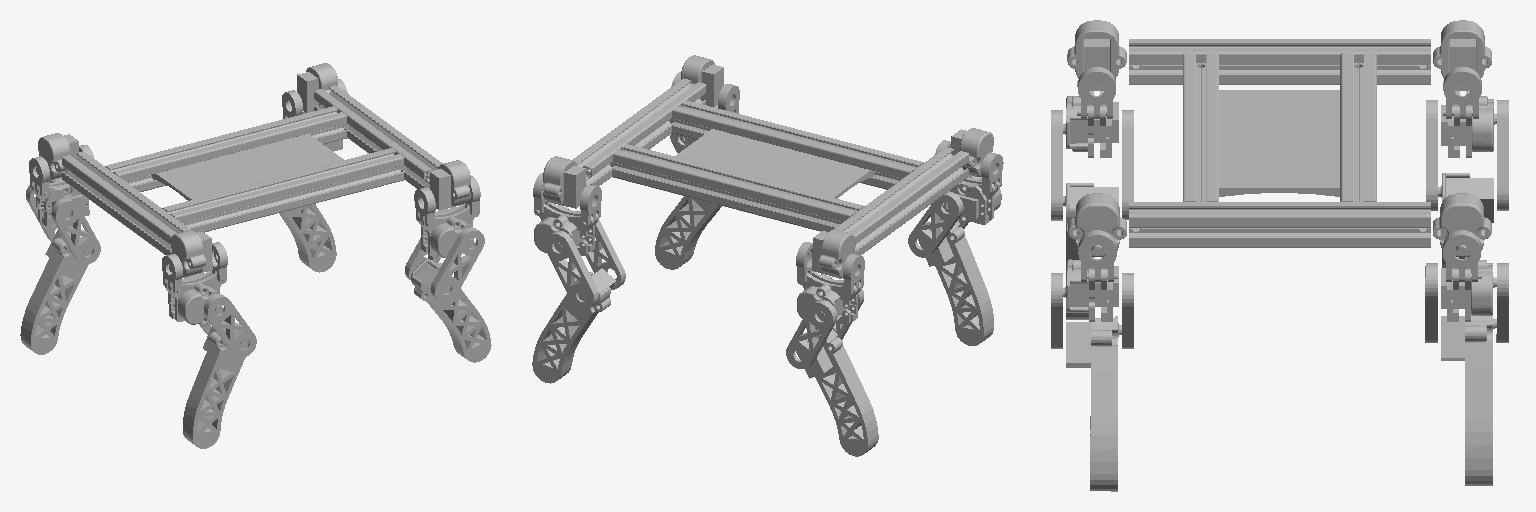
URDF robot description (FullBotTest2URDF.SLDASM):
<?xml version="1.0" encoding="utf-8"?>
<!-- This URDF was automatically created by SolidWorks to URDF Exporter! Originally created by Stephen Brawner (brawner@gmail.com) 
     Commit Version: 1.6.0-4-g7f85cfe  Build Version: 1.6.7995.38578
     For more information, please see http://wiki.ros.org/sw_urdf_exporter -->
<robot
  name="FullBotTest2URDF.SLDASM">
  <link
    name="BaseLink">
    <inertial>
      <origin
        xyz="6.5192E-05 -3.7379E-06 -0.0039004"
        rpy="0 0 0" />
      <mass
        value="1.1478" />
      <inertia
        ixx="0.0025969"
        ixy="7.6802E-12"
        ixz="-7.2398E-05"
        iyy="0.0045"
        iyz="4.4606E-12"
        izz="0.0069271" />
    </inertial>
    <visual>
      <origin
        xyz="0 0 0"
        rpy="0 0 0" />
      <geometry>
        <mesh
          filename="package://FullBotTest2URDF.SLDASM/meshes/BaseLink.STL" />
      </geometry>
      <material
        name="">
        <color
          rgba="0.75294 0.75294 0.75294 1" />
      </material>
    </visual>
    <collision>
      <origin
        xyz="0 0 0"
        rpy="0 0 0" />
      <geometry>
        <mesh
          filename="package://FullBotTest2URDF.SLDASM/meshes/BaseLink.STL" />
      </geometry>
    </collision>
  </link>
  <link
    name="FLUpperHipLink">
    <inertial>
      <origin
        xyz="0.0031695 2.5708E-05 0.0080334"
        rpy="0 0 0" />
      <mass
        value="0.080676" />
      <inertia
        ixx="1.9012E-05"
        ixy="1.3316E-11"
        ixz="3.9057E-07"
        iyy="1.7088E-05"
        iyz="-7.8407E-10"
        izz="1.2575E-05" />
    </inertial>
    <visual>
      <origin
        xyz="0 0 0"
        rpy="0 0 0" />
      <geometry>
        <mesh
          filename="package://FullBotTest2URDF.SLDASM/meshes/FLUpperHipLink.STL" />
      </geometry>
      <material
        name="">
        <color
          rgba="0.75294 0.75294 0.75294 1" />
      </material>
    </visual>
    <collision>
      <origin
        xyz="0 0 0"
        rpy="0 0 0" />
      <geometry>
        <mesh
          filename="package://FullBotTest2URDF.SLDASM/meshes/FLUpperHipLink.STL" />
      </geometry>
    </collision>
  </link>
  <joint
    name="FLUpperHipJoint"
    type="revolute">
    <origin
      xyz="0.166448515594364 0.150445534569728 -0.0104353066084669"
      rpy="0 0 0" />
    <parent
      link="BaseLink" />
    <child
      link="FLUpperHipLink" />
    <axis
      xyz="1 0 0" />
    <limit
      lower="0"
      upper="0"
      effort="0"
      velocity="0" />
  </joint>
  <link
    name="FLLowerHipLink">
    <inertial>
      <origin
        xyz="0.0031718 0.00024545 -0.0075193"
        rpy="0 0 0" />
      <mass
        value="0.1282" />
      <inertia
        ixx="3.8463E-05"
        ixy="2.4145E-07"
        ixz="-9.7233E-06"
        iyy="5.9344E-05"
        iyz="-1.1421E-07"
        izz="3.3436E-05" />
    </inertial>
    <visual>
      <origin
        xyz="0 0 0"
        rpy="0 0 0" />
      <geometry>
        <mesh
          filename="package://FullBotTest2URDF.SLDASM/meshes/FLLowerHipLink.STL" />
      </geometry>
      <material
        name="">
        <color
          rgba="0.75294 0.75294 0.75294 1" />
      </material>
    </visual>
    <collision>
      <origin
        xyz="0 0 0"
        rpy="0 0 0" />
      <geometry>
        <mesh
          filename="package://FullBotTest2URDF.SLDASM/meshes/FLLowerHipLink.STL" />
      </geometry>
    </collision>
  </link>
  <joint
    name="FLLowerHipJoint"
    type="revolute">
    <origin
      xyz="-0.00986137017177624 0.004106043362055 -0.047323311631616"
      rpy="0 0 0" />
    <parent
      link="FLUpperHipLink" />
    <child
      link="FLLowerHipLink" />
    <axis
      xyz="0 -1 0" />
    <limit
      lower="0"
      upper="0"
      effort="0"
      velocity="0" />
  </joint>
  <link
    name="FLKneeLink">
    <inertial>
      <origin
        xyz="0.025035 0.0072628 -0.045279"
        rpy="0 0 0" />
      <mass
        value="0.13883" />
      <inertia
        ixx="0.00014054"
        ixy="9.778E-07"
        ixz="5.6547E-05"
        iyy="0.00017391"
        iyz="-1.8167E-06"
        izz="5.2732E-05" />
    </inertial>
    <visual>
      <origin
        xyz="0 0 0"
        rpy="0 0 0" />
      <geometry>
        <mesh
          filename="package://FullBotTest2URDF.SLDASM/meshes/FLKneeLink.STL" />
      </geometry>
      <material
        name="">
        <color
          rgba="0.75294 0.75294 0.75294 1" />
      </material>
    </visual>
    <collision>
      <origin
        xyz="0 0 0"
        rpy="0 0 0" />
      <geometry>
        <mesh
          filename="package://FullBotTest2URDF.SLDASM/meshes/FLKneeLink.STL" />
      </geometry>
    </collision>
  </link>
  <joint
    name="FLKneeJoint"
    type="revolute">
    <origin
      xyz="-0.0305542637867021 -4.88994104665963E-05 -0.0516375306661767"
      rpy="0 0 0" />
    <parent
      link="FLLowerHipLink" />
    <child
      link="FLKneeLink" />
    <axis
      xyz="0 -1 0" />
    <limit
      lower="0"
      upper="0"
      effort="0"
      velocity="0" />
  </joint>
  <link
    name="FRUpperHipLink">
    <inertial>
      <origin
        xyz="0.0036639 2.5708E-05 0.0084262"
        rpy="0 0 0" />
      <mass
        value="0.080676" />
      <inertia
        ixx="1.9012E-05"
        ixy="1.3304E-11"
        ixz="3.9057E-07"
        iyy="1.7088E-05"
        iyz="-7.8406E-10"
        izz="1.2575E-05" />
    </inertial>
    <visual>
      <origin
        xyz="0 0 0"
        rpy="0 0 0" />
      <geometry>
        <mesh
          filename="package://FullBotTest2URDF.SLDASM/meshes/FRUpperHipLink.STL" />
      </geometry>
      <material
        name="">
        <color
          rgba="0.75294 0.75294 0.75294 1" />
      </material>
    </visual>
    <collision>
      <origin
        xyz="0 0 0"
        rpy="0 0 0" />
      <geometry>
        <mesh
          filename="package://FullBotTest2URDF.SLDASM/meshes/FRUpperHipLink.STL" />
      </geometry>
    </collision>
  </link>
  <joint
    name="FRUpperHipJoint"
    type="revolute">
    <origin
      xyz="0.16595413806251 -0.150454465430272 -0.0108280445176236"
      rpy="0 0 0" />
    <parent
      link="BaseLink" />
    <child
      link="FRUpperHipLink" />
    <axis
      xyz="1 0 0" />
    <limit
      lower="0"
      upper="0"
      effort="0"
      velocity="0" />
  </joint>
  <link
    name="FRLowerHipLink">
    <inertial>
      <origin
        xyz="-0.014129 -0.00025961 -0.0074696"
        rpy="0 0 0" />
      <mass
        value="0.1282" />
      <inertia
        ixx="3.7263E-05"
        ixy="2.3773E-07"
        ixz="-1.0364E-05"
        iyy="5.9344E-05"
        iyz="7.4443E-08"
        izz="3.4636E-05" />
    </inertial>
    <visual>
      <origin
        xyz="0 0 0"
        rpy="0 0 0" />
      <geometry>
        <mesh
          filename="package://FullBotTest2URDF.SLDASM/meshes/FRLowerHipLink.STL" />
      </geometry>
      <material
        name="">
        <color
          rgba="0.75294 0.75294 0.75294 1" />
      </material>
    </visual>
    <collision>
      <origin
        xyz="0 0 0"
        rpy="0 0 0" />
      <geometry>
        <mesh
          filename="package://FullBotTest2URDF.SLDASM/meshes/FRLowerHipLink.STL" />
      </geometry>
    </collision>
  </link>
  <joint
    name="FRLowerHipJoint"
    type="revolute">
    <origin
      xyz="0.0109300395602728 -0.00419550822049697 -0.0465833751657271"
      rpy="0 0 0" />
    <parent
      link="FRUpperHipLink" />
    <child
      link="FRLowerHipLink" />
    <axis
      xyz="0 1 0" />
    <limit
      lower="0"
      upper="0"
      effort="0"
      velocity="0" />
  </joint>
  <link
    name="FRKneeLink">
    <inertial>
      <origin
        xyz="0.028221 0.0072646 -0.043365"
        rpy="0 0 0" />
      <mass
        value="0.13883" />
      <inertia
        ixx="0.00013198"
        ixy="1.1031E-06"
        ixz="6.2252E-05"
        iyy="0.00017391"
        iyz="-1.7379E-06"
        izz="6.1284E-05" />
    </inertial>
    <visual>
      <origin
        xyz="0 0 0"
        rpy="0 0 0" />
      <geometry>
        <mesh
          filename="package://FullBotTest2URDF.SLDASM/meshes/FRKneeLink.STL" />
      </geometry>
      <material
        name="">
        <color
          rgba="0.75294 0.75294 0.75294 1" />
      </material>
    </visual>
    <collision>
      <origin
        xyz="0 0 0"
        rpy="0 0 0" />
      <geometry>
        <mesh
          filename="package://FullBotTest2URDF.SLDASM/meshes/FRKneeLink.STL" />
      </geometry>
    </collision>
  </link>
  <joint
    name="FRKneeJoint"
    type="revolute">
    <origin
      xyz="-0.0336140084544684 -4.69974368977333E-05 -0.0497000626138108"
      rpy="0 0 0" />
    <parent
      link="FRLowerHipLink" />
    <child
      link="FRKneeLink" />
    <axis
      xyz="0 1 0" />
    <limit
      lower="0"
      upper="0"
      effort="0"
      velocity="0" />
  </joint>
  <link
    name="BLUpperHipLink">
    <inertial>
      <origin
        xyz="-0.0031695 0.00047429 0.0081087"
        rpy="0 0 0" />
      <mass
        value="0.080676" />
      <inertia
        ixx="1.9012E-05"
        ixy="1.3304E-11"
        ixz="-3.9057E-07"
        iyy="1.7088E-05"
        iyz="7.8406E-10"
        izz="1.2575E-05" />
    </inertial>
    <visual>
      <origin
        xyz="0 0 0"
        rpy="0 0 0" />
      <geometry>
        <mesh
          filename="package://FullBotTest2URDF.SLDASM/meshes/BLUpperHipLink.STL" />
      </geometry>
      <material
        name="">
        <color
          rgba="0.75294 0.75294 0.75294 1" />
      </material>
    </visual>
    <collision>
      <origin
        xyz="0 0 0"
        rpy="0 0 0" />
      <geometry>
        <mesh
          filename="package://FullBotTest2URDF.SLDASM/meshes/BLUpperHipLink.STL" />
      </geometry>
    </collision>
  </link>
  <joint
    name="BLUpperHipJoint"
    type="revolute">
    <origin
      xyz="-0.166002604208965 0.150445534569728 -0.016167388356793"
      rpy="0 -0.0334260590095889 0" />
    <parent
      link="BaseLink" />
    <child
      link="BLUpperHipLink" />
    <axis
      xyz="1 0 0" />
    <limit
      lower="0"
      upper="0"
      effort="0"
      velocity="0" />
  </joint>
  <link
    name="BLLowerHipLink">
    <inertial>
      <origin
        xyz="0.012719 0.00084989 -0.0083278"
        rpy="0 0 0" />
      <mass
        value="0.1282" />
      <inertia
        ixx="4.0252E-05"
        ixy="2.3939E-07"
        ixz="8.572E-06"
        iyy="5.9344E-05"
        iyz="-7.1555E-08"
        izz="3.1647E-05" />
    </inertial>
    <visual>
      <origin
        xyz="0 0 0"
        rpy="0 0 0" />
      <geometry>
        <mesh
          filename="package://FullBotTest2URDF.SLDASM/meshes/BLLowerHipLink.STL" />
      </geometry>
      <material
        name="">
        <color
          rgba="0.75294 0.75294 0.75294 1" />
      </material>
    </visual>
    <collision>
      <origin
        xyz="0 0 0"
        rpy="0 0 0" />
      <geometry>
        <mesh
          filename="package://FullBotTest2URDF.SLDASM/meshes/BLLowerHipLink.STL" />
      </geometry>
    </collision>
  </link>
  <joint
    name="BLLowerHipJoint"
    type="revolute">
    <origin
      xyz="-0.0104346502848324 0.00410601321117743 -0.0468402973556113"
      rpy="0 0 0" />
    <parent
      link="BLUpperHipLink" />
    <child
      link="BLLowerHipLink" />
    <axis
      xyz="0 -1 0" />
    <limit
      lower="0"
      upper="0"
      effort="0"
      velocity="0" />
  </joint>
  <link
    name="BLKneeLink">
    <inertial>
      <origin
        xyz="-0.018931 -0.0065678 -0.041961"
        rpy="0 0 0" />
      <mass
        value="0.13883" />
      <inertia
        ixx="0.00013786"
        ixy="1.019E-06"
        ixz="-5.8528E-05"
        iyy="0.00017391"
        iyz="1.7922E-06"
        izz="5.541E-05" />
    </inertial>
    <visual>
      <origin
        xyz="0 0 0"
        rpy="0 0 0" />
      <geometry>
        <mesh
          filename="package://FullBotTest2URDF.SLDASM/meshes/BLKneeLink.STL" />
      </geometry>
      <material
        name="">
        <color
          rgba="0.75294 0.75294 0.75294 1" />
      </material>
    </visual>
    <collision>
      <origin
        xyz="0 0 0"
        rpy="0 0 0" />
      <geometry>
        <mesh
          filename="package://FullBotTest2URDF.SLDASM/meshes/BLKneeLink.STL" />
      </geometry>
    </collision>
  </link>
  <joint
    name="BLKneeJoint"
    type="revolute">
    <origin
      xyz="0.0181858082501283 -5.43902489529291E-05 -0.0571717488700233"
      rpy="0 0 0" />
    <parent
      link="BLLowerHipLink" />
    <child
      link="BLKneeLink" />
    <axis
      xyz="0 -1 0" />
    <limit
      lower="0"
      upper="0"
      effort="0"
      velocity="0" />
  </joint>
  <link
    name="BRUpperHipLink">
    <inertial>
      <origin
        xyz="-0.0036639 -2.5708E-05 0.0084262"
        rpy="0 0 0" />
      <mass
        value="0.080676" />
      <inertia
        ixx="1.9012E-05"
        ixy="1.3304E-11"
        ixz="-3.9057E-07"
        iyy="1.7088E-05"
        iyz="7.8406E-10"
        izz="1.2575E-05" />
    </inertial>
    <visual>
      <origin
        xyz="0 0 0"
        rpy="0 0 0" />
      <geometry>
        <mesh
          filename="package://FullBotTest2URDF.SLDASM/meshes/BRUpperHipLink.STL" />
      </geometry>
      <material
        name="">
        <color
          rgba="0.75294 0.75294 0.75294 1" />
      </material>
    </visual>
    <collision>
      <origin
        xyz="0 0 0"
        rpy="0 0 0" />
      <geometry>
        <mesh
          filename="package://FullBotTest2URDF.SLDASM/meshes/BRUpperHipLink.STL" />
      </geometry>
    </collision>
  </link>
  <joint
    name="BRUpperHipJoint"
    type="revolute">
    <origin
      xyz="-0.165497893612396 -0.150954465430273 -0.01646814190852"
      rpy="0 -0.0334260590095873 0" />
    <parent
      link="BaseLink" />
    <child
      link="BRUpperHipLink" />
    <axis
      xyz="1 0 0" />
    <limit
      lower="0"
      upper="0"
      effort="0"
      velocity="0" />
  </joint>
  <link
    name="BRLowerHipLink">
    <inertial>
      <origin
        xyz="-0.0031718 -0.00024545 -0.0075193"
        rpy="0 0 0" />
      <mass
        value="0.1282" />
      <inertia
        ixx="3.8463E-05"
        ixy="2.4145E-07"
        ixz="9.7233E-06"
        iyy="5.9344E-05"
        iyz="1.1421E-07"
        izz="3.3436E-05" />
    </inertial>
    <visual>
      <origin
        xyz="0 0 0"
        rpy="0 0 0" />
      <geometry>
        <mesh
          filename="package://FullBotTest2URDF.SLDASM/meshes/BRLowerHipLink.STL" />
      </geometry>
      <material
        name="">
        <color
          rgba="0.75294 0.75294 0.75294 1" />
      </material>
    </visual>
    <collision>
      <origin
        xyz="0 0 0"
        rpy="0 0 0" />
      <geometry>
        <mesh
          filename="package://FullBotTest2URDF.SLDASM/meshes/BRLowerHipLink.STL" />
      </geometry>
    </collision>
  </link>
  <joint
    name="BRLowerHipJoint"
    type="revolute">
    <origin
      xyz="0.00936699263991836 -0.00410604336205855 -0.0469305737224566"
      rpy="0 0 0" />
    <parent
      link="BRUpperHipLink" />
    <child
      link="BRLowerHipLink" />
    <axis
      xyz="0 1 0" />
    <limit
      lower="0"
      upper="0"
      effort="0"
      velocity="0" />
  </joint>
  <link
    name="BRKneeLink">
    <inertial>
      <origin
        xyz="-0.022599 -0.0072616 -0.046543"
        rpy="0 0 0" />
      <mass
        value="0.13883" />
      <inertia
        ixx="0.00014628"
        ixy="8.8151E-07"
        ixz="-5.158E-05"
        iyy="0.00017391"
        iyz="1.8687E-06"
        izz="4.6991E-05" />
    </inertial>
    <visual>
      <origin
        xyz="0 0 0"
        rpy="0 0 0" />
      <geometry>
        <mesh
          filename="package://FullBotTest2URDF.SLDASM/meshes/BRKneeLink.STL" />
      </geometry>
      <material
        name="">
        <color
          rgba="0.75294 0.75294 0.75294 1" />
      </material>
    </visual>
    <collision>
      <origin
        xyz="0 0 0"
        rpy="0 0 0" />
      <geometry>
        <mesh
          filename="package://FullBotTest2URDF.SLDASM/meshes/BRKneeLink.STL" />
      </geometry>
    </collision>
  </link>
  <joint
    name="BRKneeJoint"
    type="revolute">
    <origin
      xyz="0.0305542637867015 4.88994104668183E-05 -0.0516375306661785"
      rpy="0 0 0" />
    <parent
      link="BRLowerHipLink" />
    <child
      link="BRKneeLink" />
    <axis
      xyz="0 1 0" />
    <limit
      lower="0"
      upper="0"
      effort="0"
      velocity="0" />
  </joint>
</robot>

--- Render facts (derived) ---
Views: 3 orthographic renders of the robot side by side, from view 1: azimuth 30°, elevation 25°; view 2: azimuth 150°, elevation 25°; view 3: azimuth 270°, elevation 25°.
Robot: FullBotTest2URDF.SLDASM — 13 links, 12 joints (12 revolute); root link BaseLink; default pose: every joint at zero.
Links seen in each view (by area): view 1: BaseLink, FRLowerHipLink, BLKneeLink, BRKneeLink, BRLowerHipLink, BLLowerHipLink, FRKneeLink, FRUpperHipLink, BRUpperHipLink, FLKneeLink, BLUpperHipLink, FLUpperHipLink; view 2: BaseLink, FLLowerHipLink, BLKneeLink, BRKneeLink, BLLowerHipLink, FLKneeLink, BRLowerHipLink, BLUpperHipLink, FLUpperHipLink, FRKneeLink, BRUpperHipLink, FRUpperHipLink; view 3: BaseLink, FRKneeLink, FLKneeLink, BLLowerHipLink, BRLowerHipLink, FLLowerHipLink, FRLowerHipLink, BLUpperHipLink, BRUpperHipLink, FRUpperHipLink, FLUpperHipLink, BLKneeLink (+1 smaller).
Link boxes in pixels (x1,y1,x2,y2): BaseLink: (62, 85, 442, 254); FRLowerHipLink: (405, 204, 484, 302); BLKneeLink: (20, 230, 92, 354); BRKneeLink: (183, 326, 248, 448); BRLowerHipLink: (165, 270, 256, 357); BLLowerHipLink: (26, 178, 100, 264); FRKneeLink: (411, 259, 491, 362); FRUpperHipLink: (414, 160, 480, 228); BRUpperHipLink: (162, 230, 227, 295); FLKneeLink: (279, 204, 336, 272); BLUpperHipLink: (29, 133, 93, 197); FLUpperHipLink: (282, 63, 347, 118); BaseLink: (573, 78, 968, 255); FLLowerHipLink: (534, 202, 625, 309); BLKneeLink: (796, 329, 878, 456); BRKneeLink: (918, 218, 993, 345); BLLowerHipLink: (786, 271, 863, 368); FLKneeLink: (532, 268, 615, 383); BRLowerHipLink: (908, 175, 1001, 257); BLUpperHipLink: (796, 229, 864, 296); FLUpperHipLink: (533, 156, 601, 227); FRKneeLink: (655, 196, 721, 269); BRUpperHipLink: (935, 128, 1003, 195); FRUpperHipLink: (671, 55, 739, 113); BaseLink: (1129, 39, 1430, 247); FRKneeLink: (1066, 316, 1121, 491); FLKneeLink: (1441, 315, 1496, 485); BLLowerHipLink: (1426, 91, 1508, 210); BRLowerHipLink: (1051, 91, 1133, 220); FLLowerHipLink: (1425, 257, 1508, 342); FRLowerHipLink: (1051, 257, 1133, 348); BLUpperHipLink: (1433, 20, 1491, 118); BRUpperHipLink: (1067, 20, 1126, 118); FRUpperHipLink: (1068, 193, 1126, 281); FLUpperHipLink: (1433, 193, 1491, 281); BLKneeLink: (1438, 173, 1493, 267).
Size in the robot's own frame: 0.4365 by 0.379 by 0.2671 metres.
Meshes: 13 distinct files referenced, 13 mesh visuals loaded (13 binary STL).
